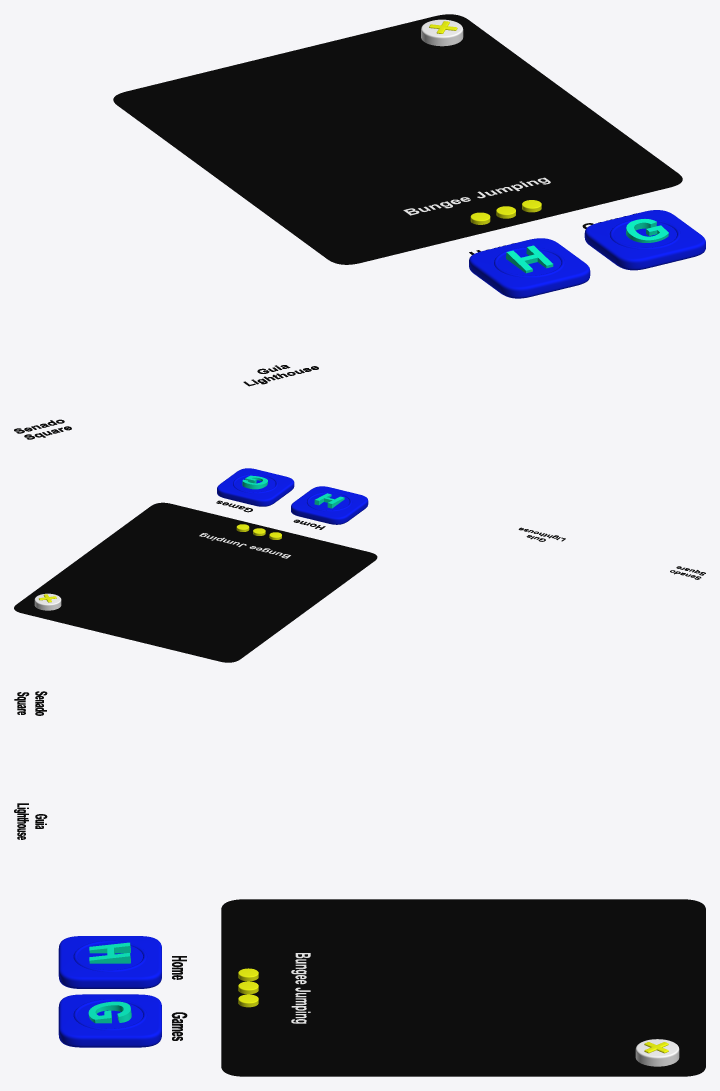
The model's file is macautower_right2.obj.
3 views of the same model, one above another, from view 1: azimuth 30°, elevation 25°; view 2: azimuth 150°, elevation 25°; view 3: azimuth 270°, elevation 25° (orthographic). The views are drawn at different scales.
Parts seen in each view (by area): view 1: Box013, Box006, Box009, Cylinder011, Text012, Text011; view 2: Box013, Box006, Box009, Cylinder011; view 3: Box013, Box009, Box006, Cylinder011, Text011, Text012, Text003.
Part boxes in pixels (bbox=[...]): Box013: bbox=[113, 14, 682, 264]; Box006: bbox=[469, 238, 590, 298]; Box009: bbox=[584, 210, 705, 270]; Cylinder011: bbox=[421, 19, 463, 46]; Text012: bbox=[626, 219, 668, 242]; Text011: bbox=[506, 245, 553, 273]; Box013: bbox=[14, 502, 377, 662]; Box006: bbox=[291, 486, 368, 524]; Box009: bbox=[217, 468, 294, 506]; Cylinder011: bbox=[34, 593, 61, 610]; Box013: bbox=[221, 899, 705, 1076]; Box009: bbox=[58, 994, 161, 1047]; Box006: bbox=[58, 936, 161, 988]; Cylinder011: bbox=[635, 1039, 679, 1066]; Text011: bbox=[89, 942, 130, 963]; Text012: bbox=[88, 1001, 131, 1023]; Text003: bbox=[291, 953, 310, 1023].
Bounding box in the file's own units: 353 × 8.15 × 268.
